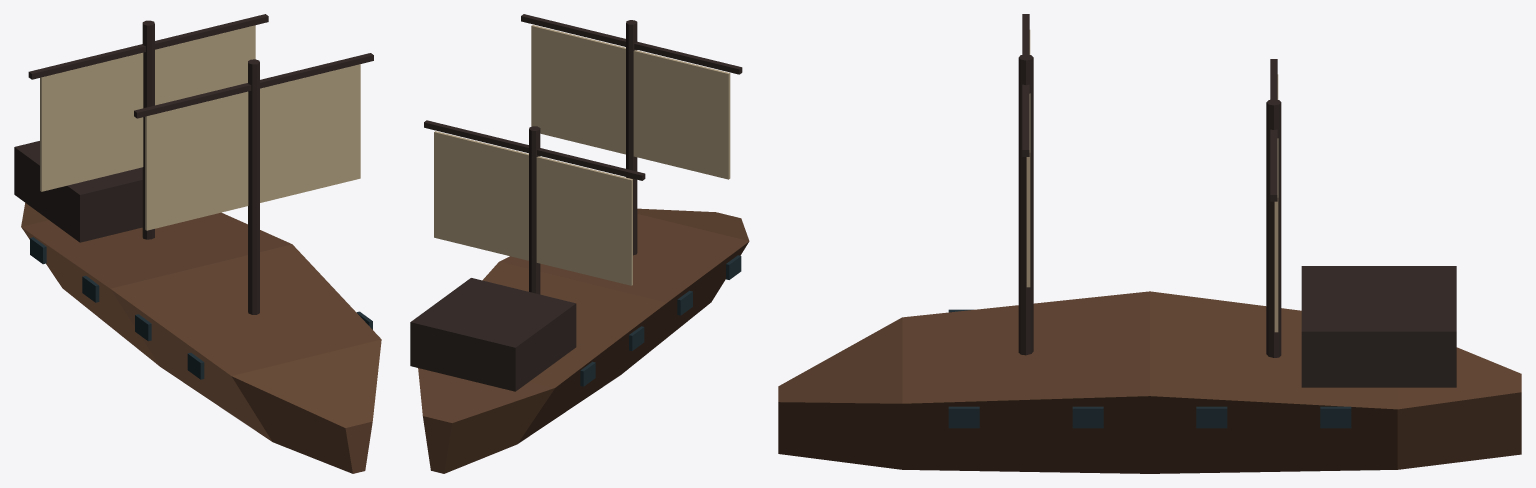
The model's file is PirateCove_DistantGalleon_Standard.glb.
3 renders of one model, left to right at view 1: azimuth 30°, elevation 25°; view 2: azimuth 150°, elevation 25°; view 3: azimuth 270°, elevation 25°, orthographic. The views are drawn at different scales.
Visible parts, largest first — view 1: PirateCove_DistantGalleon_Standard; view 2: PirateCove_DistantGalleon_Standard; view 3: PirateCove_DistantGalleon_Standard.
Part boxes in pixels (<box>): PirateCove_DistantGalleon_Standard: <box>14,14,381,473</box>; PirateCove_DistantGalleon_Standard: <box>410,14,749,473</box>; PirateCove_DistantGalleon_Standard: <box>778,14,1521,473</box>.
Size of the model in its own units: 5.2 by 7 by 12.
